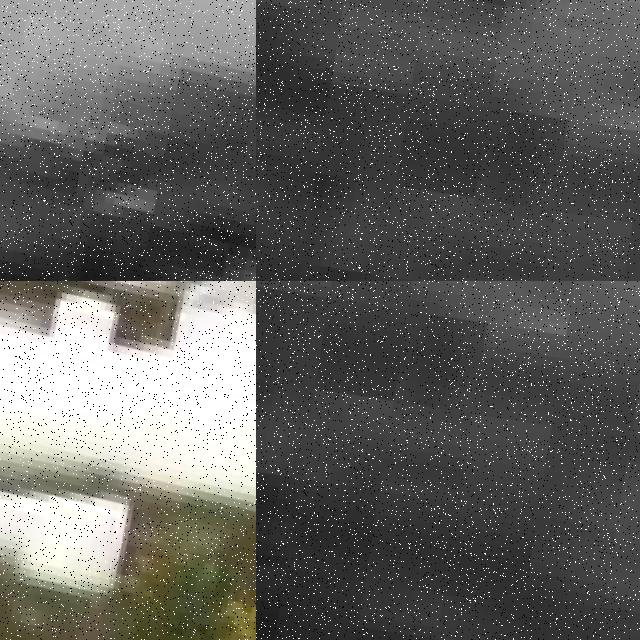0: (0, 0, 256, 281)
drone: (0, 281, 256, 640)
